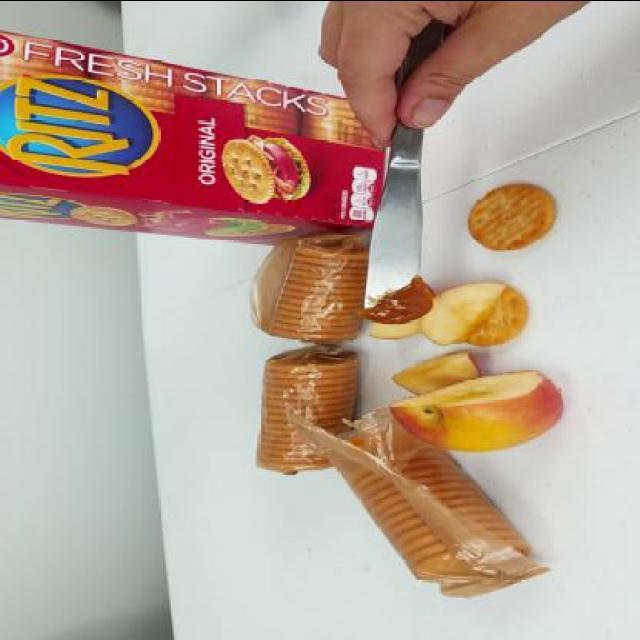Ritz cracker packaged: (466, 182, 558, 253)
